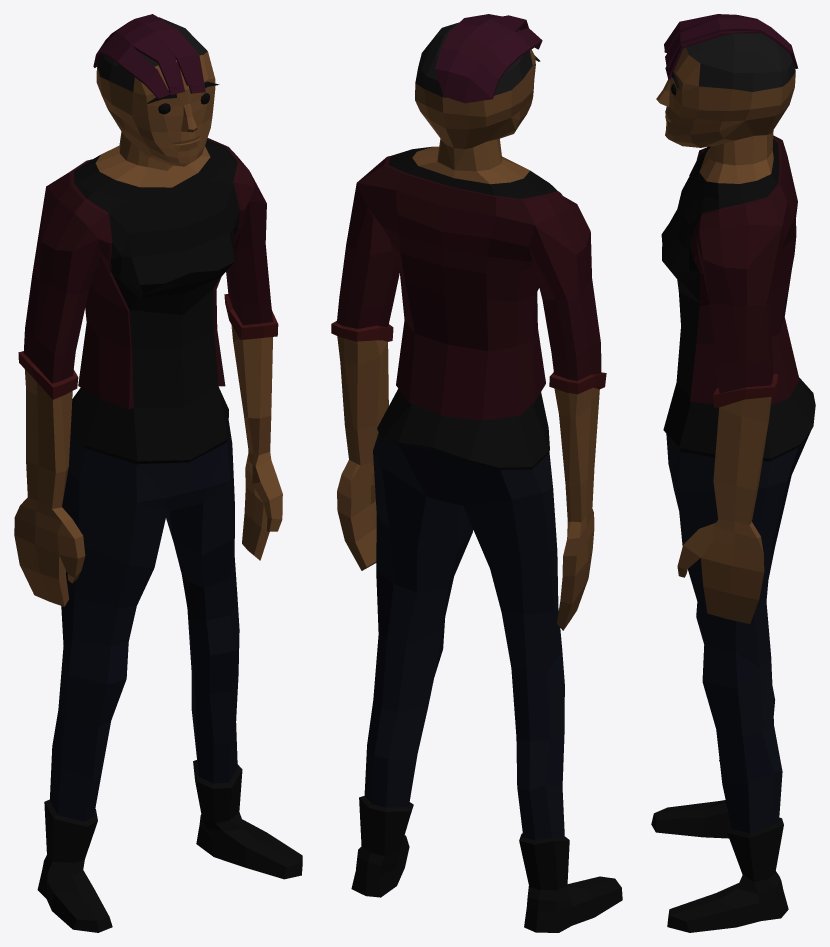
Rendered from Female_Alternative.obj.
The picture shows the model from 3 angles, left to right: view 1: azimuth 30°, elevation 25°; view 2: azimuth 150°, elevation 25°; view 3: azimuth 270°, elevation 25°; orthographic projection. The views are drawn at different scales.
Visible parts, largest first — view 1: Female_Cylinder.006; view 2: Female_Cylinder.006; view 3: Female_Cylinder.006.
Boxes of the visible parts, x1=… form: Female_Cylinder.006: x1=14, y1=14, x2=302, y2=932; Female_Cylinder.006: x1=331, y1=14, x2=622, y2=932; Female_Cylinder.006: x1=651, y1=14, x2=815, y2=932.
Bounding box in the file's own units: 1.4 × 4.65 × 0.8145.
